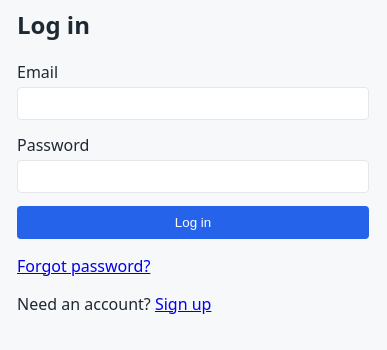
Test: LoginPage › blocks submit when fields are empty (negative)
Click the button "Log in": (193, 222) [17, 206, 369, 239]
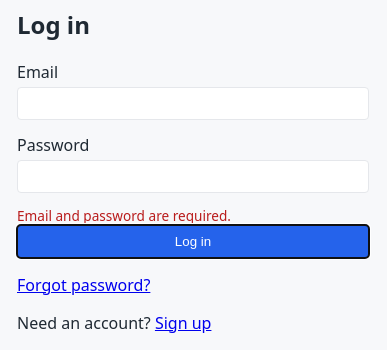
Check: the text "Email and password are required." is shown, box [17, 206, 231, 225]
